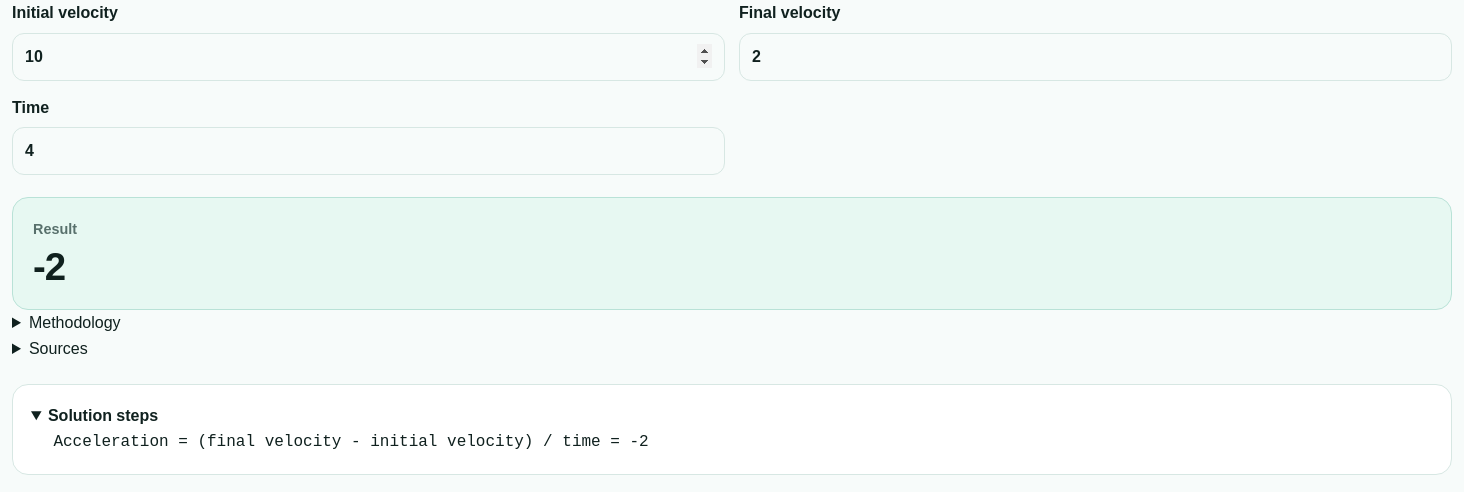
Scenario: Physics validation feedback › announces invalid acceleration input
Replace the text in the number field labelled "Time" with "0": (368,151) [12,127,725,175]
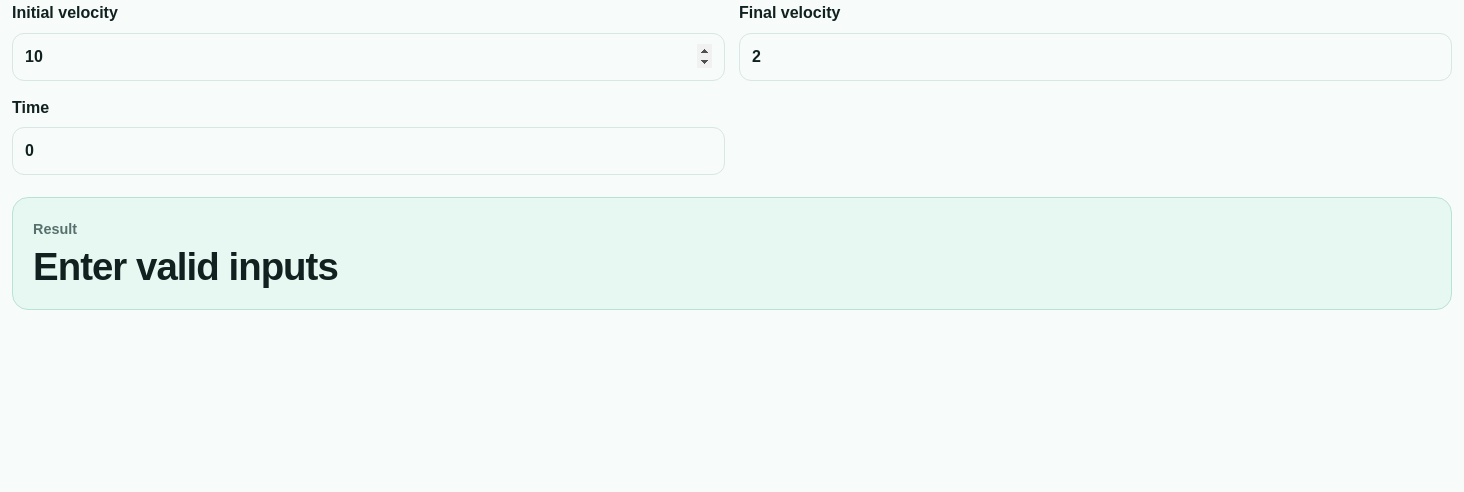
Result: the message shows "Enter valid inputs" at [33,245,338,288]
